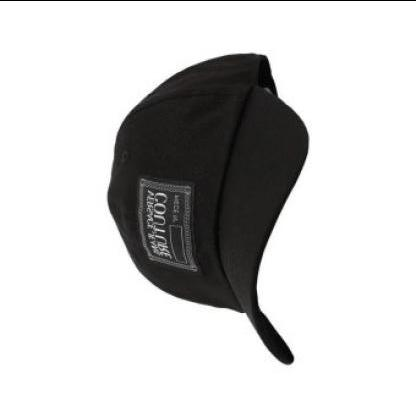cap: (88, 37, 320, 380)
